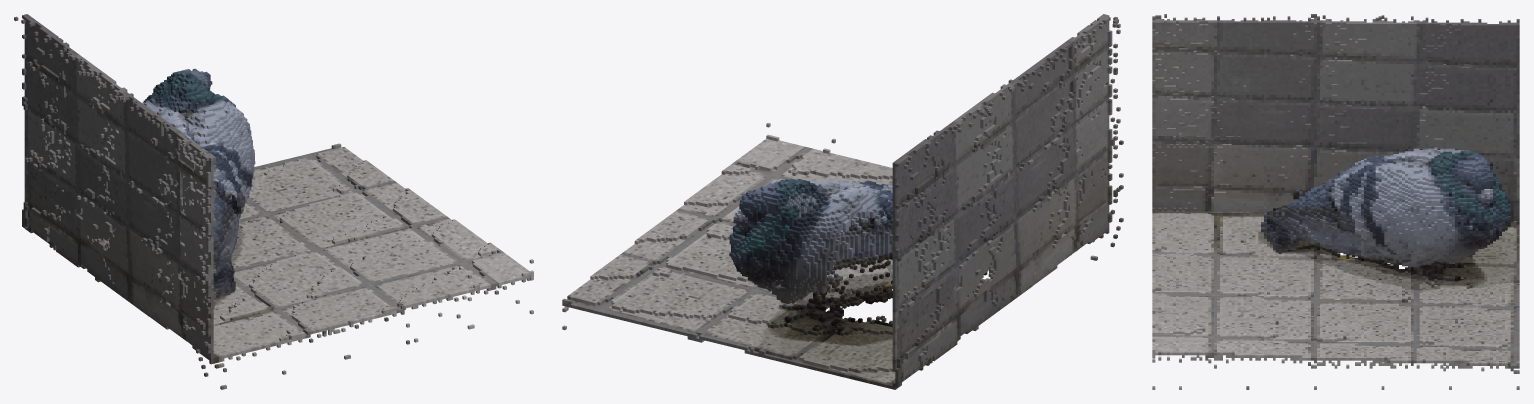
Rendered from paloma_escaneo.glb.
The picture shows the model from 3 angles, left to right: view 1: azimuth 30°, elevation 25°; view 2: azimuth 150°, elevation 25°; view 3: azimuth 270°, elevation 25°; orthographic projection. The views are drawn at different scales.
Parts seen in each view (by area): view 1: Object_2, Object_5, Object_4, Object_3; view 2: Object_2, Object_5, Object_3, Object_4; view 3: Object_3, Object_2, Object_5, Object_4.
Boxes of the visible parts, box(x1,y1,x2,y2) form: Object_2: box(14, 14, 533, 389); Object_5: box(25, 143, 533, 386); Object_4: box(14, 17, 210, 376); Object_3: box(15, 18, 533, 389); Object_2: box(565, 14, 1122, 389); Object_5: box(562, 158, 1117, 386); Object_3: box(562, 18, 1121, 389); Object_4: box(906, 16, 1123, 306); Object_3: box(1152, 22, 1519, 389); Object_2: box(1152, 14, 1519, 352); Object_5: box(1152, 210, 1519, 387); Object_4: box(1460, 25, 1501, 179).
Size of the model in its own units: 12.5 by 8.3 by 12.5.
1 material, 1 textured.
